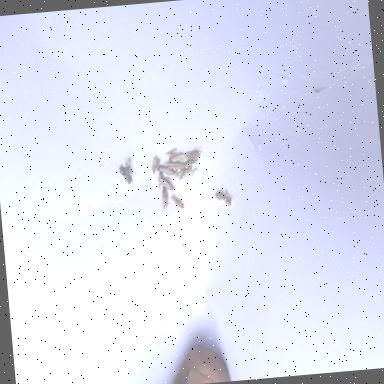pbw: (119, 164, 135, 189), (158, 176, 176, 194), (174, 166, 194, 181), (157, 164, 178, 178), (160, 186, 170, 212), (164, 162, 187, 172), (150, 158, 162, 176), (123, 159, 132, 183), (216, 191, 232, 204), (172, 194, 184, 210), (168, 154, 186, 162), (186, 150, 200, 160), (158, 172, 164, 189), (190, 168, 198, 178), (188, 159, 200, 165)
